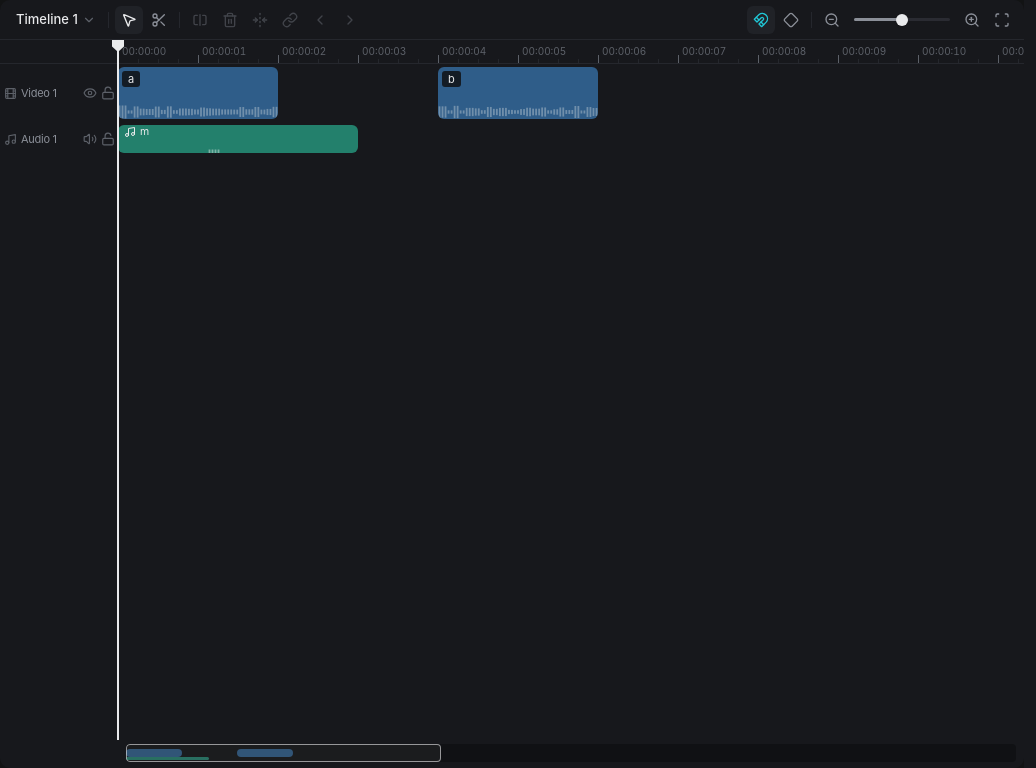
Test case: TimelineContextMenu › lists the full clip menu for a video clip without the nested-only entry
Step 1. Right-click the option "b" → (518, 93), box [438, 67, 598, 119]
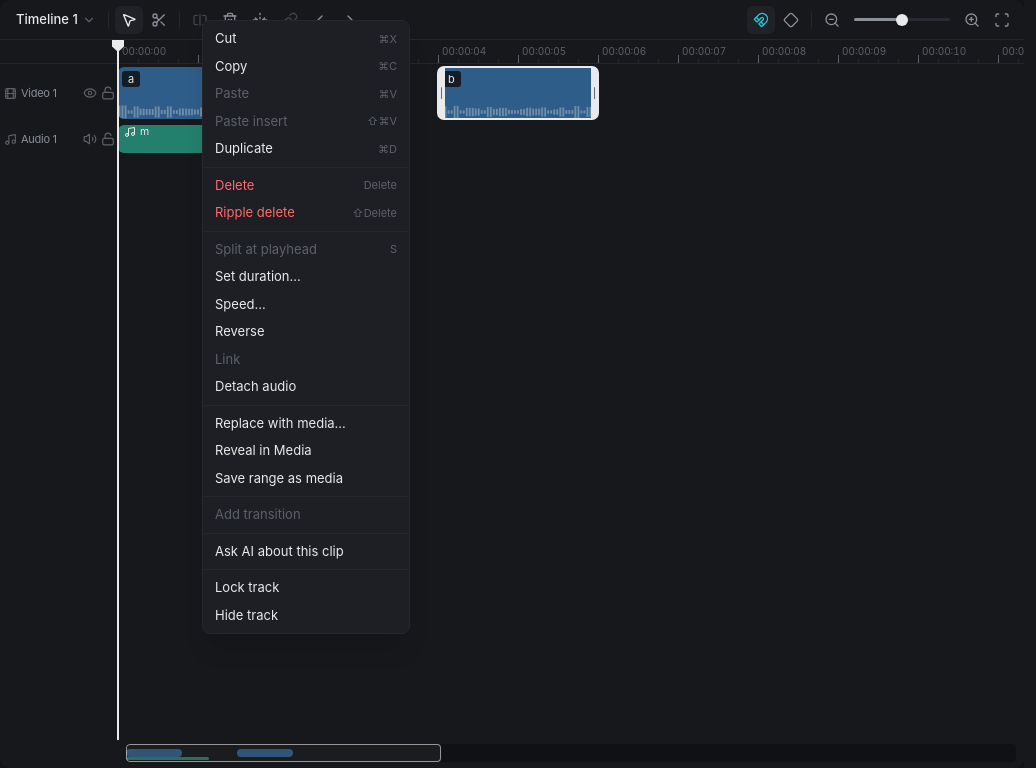
Expected: the menu item "Copy ⌘C" is shown, [215, 58, 397, 74]
